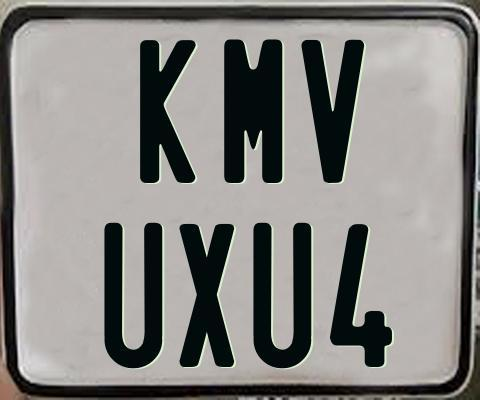4: (329, 224, 391, 369)
K: (139, 38, 200, 185)
M: (222, 39, 281, 187)
U: (251, 223, 313, 374), (102, 220, 160, 371)
V: (300, 38, 369, 183)
X: (176, 221, 235, 369)
